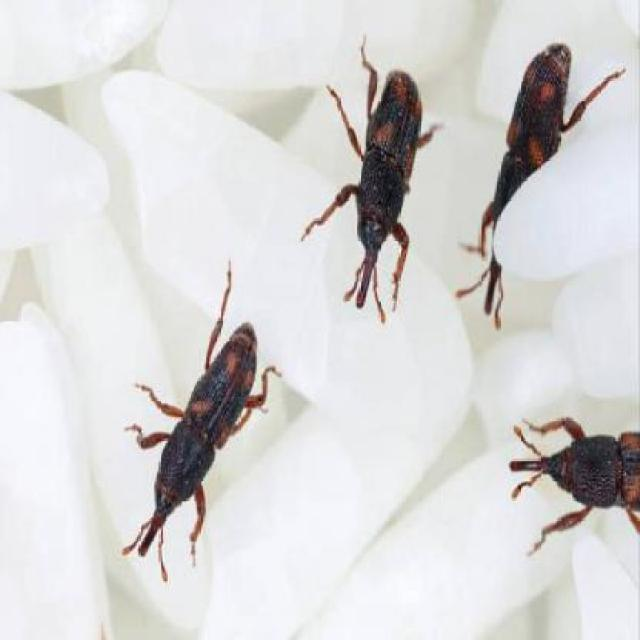rice-bug: (126, 299, 263, 564), (480, 40, 588, 318), (325, 62, 437, 313), (511, 405, 640, 543)
